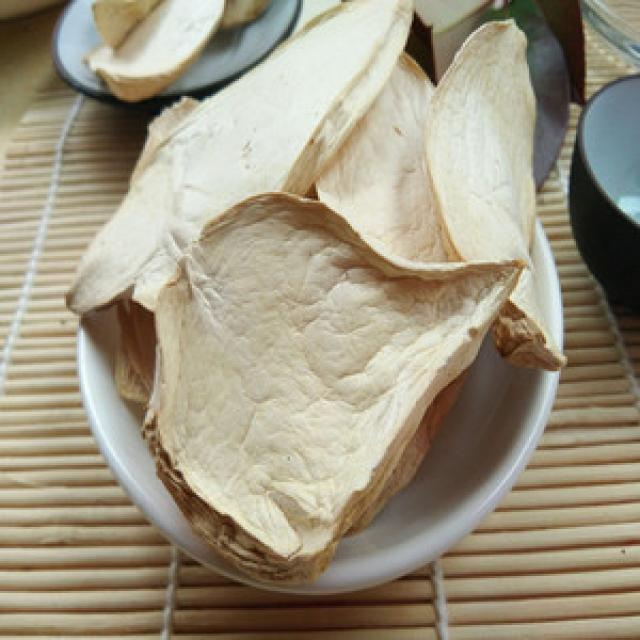Pleurotus eryngii: (66, 0, 568, 579)
